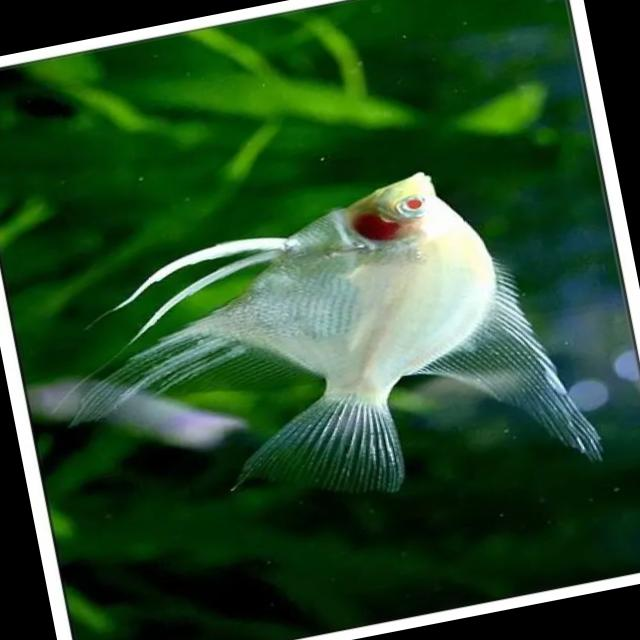AngelFish: (21, 156, 602, 560)
